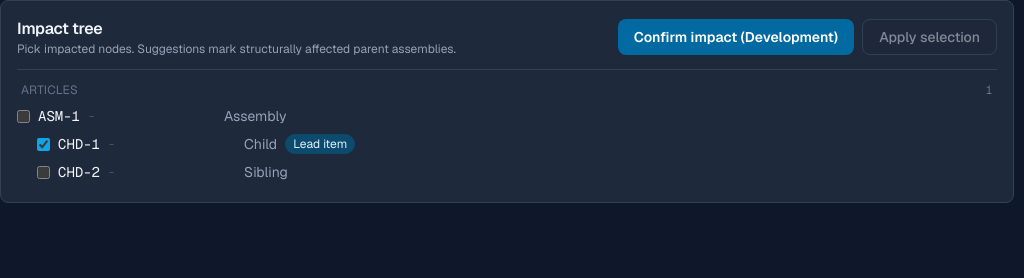
it: ImpactTree › preserves unsaved edits across a background refetch
This screenshot has width=1024, height=278.
Expected: the text "Child" is shown, [244,134,277,154]
# Unsaved edit: check the sibling node.
Click the checkbox named "Sibling": (44, 172) [37,166,50,178]
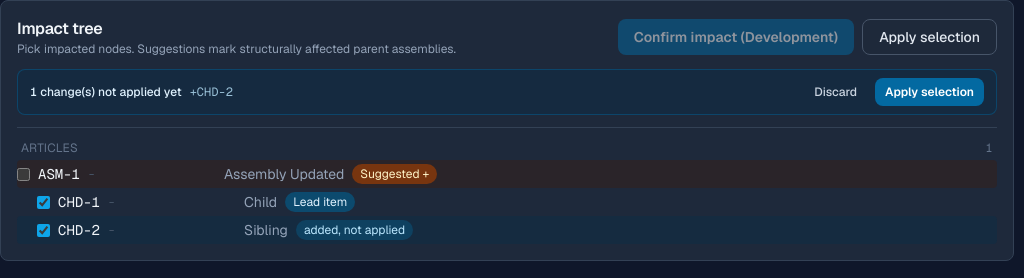
Expected: the checkbox named "Sibling" is checked, [37,224,50,236]
Expected: the text "Assembly Updated" is shown, [224,164,344,184]
